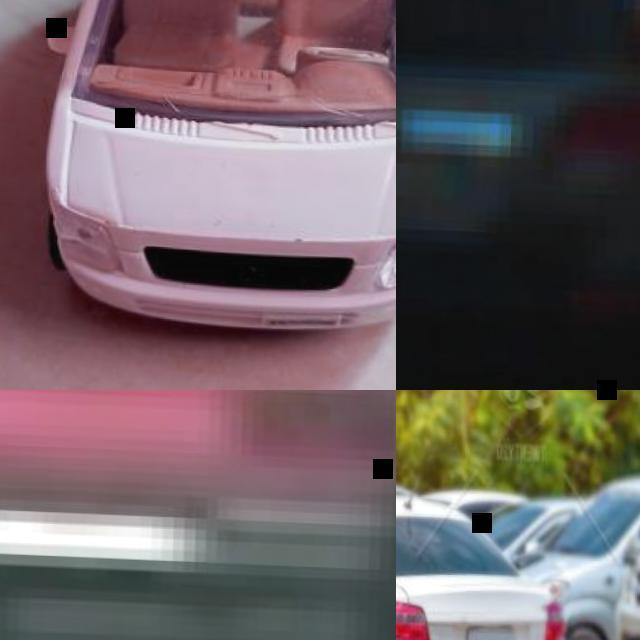car: (40, 0, 397, 344), (395, 482, 639, 638)
